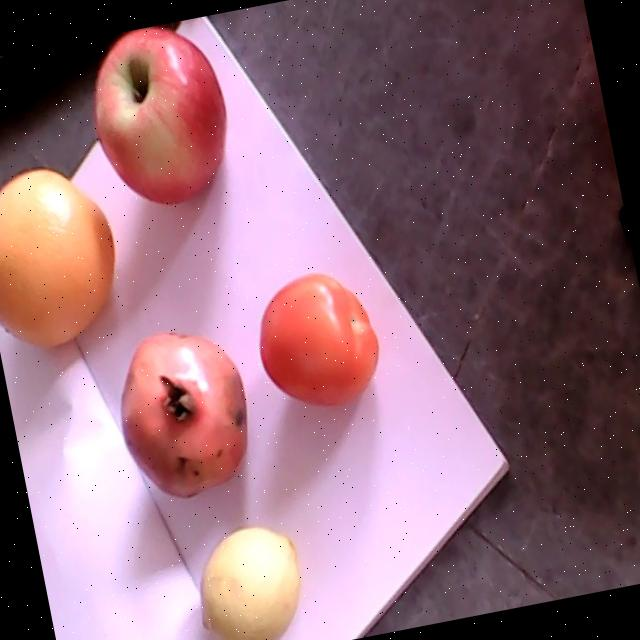apple: (94, 27, 227, 205)
lemon: (201, 526, 299, 640)
orange: (0, 168, 114, 347)
pomegranate: (121, 333, 248, 499)
tomato: (260, 273, 379, 405)
